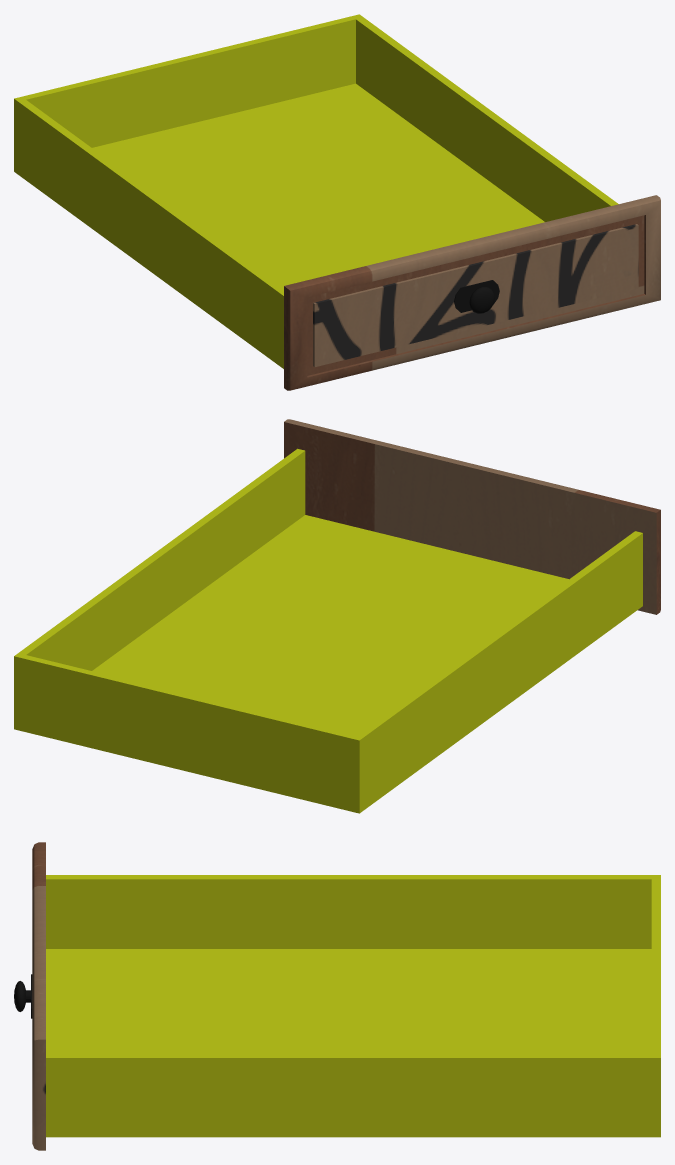
The model's file is SM_Commode_Tiroir.fbx.
The picture shows the model from 3 angles, top to bottom: view 1: azimuth 30°, elevation 25°; view 2: azimuth 150°, elevation 25°; view 3: azimuth 270°, elevation 25°; orthographic projection. The views are drawn at different scales.
Visible parts, largest first — view 1: Tiroir; view 2: Tiroir; view 3: Tiroir.
Part boxes in pixels (x1,y1,x2,y2): Tiroir: [14, 14, 660, 390]; Tiroir: [14, 419, 660, 813]; Tiroir: [14, 842, 660, 1150].
Bounding box in the file's own units: 0.4933 × 0.1292 × 0.6839.
